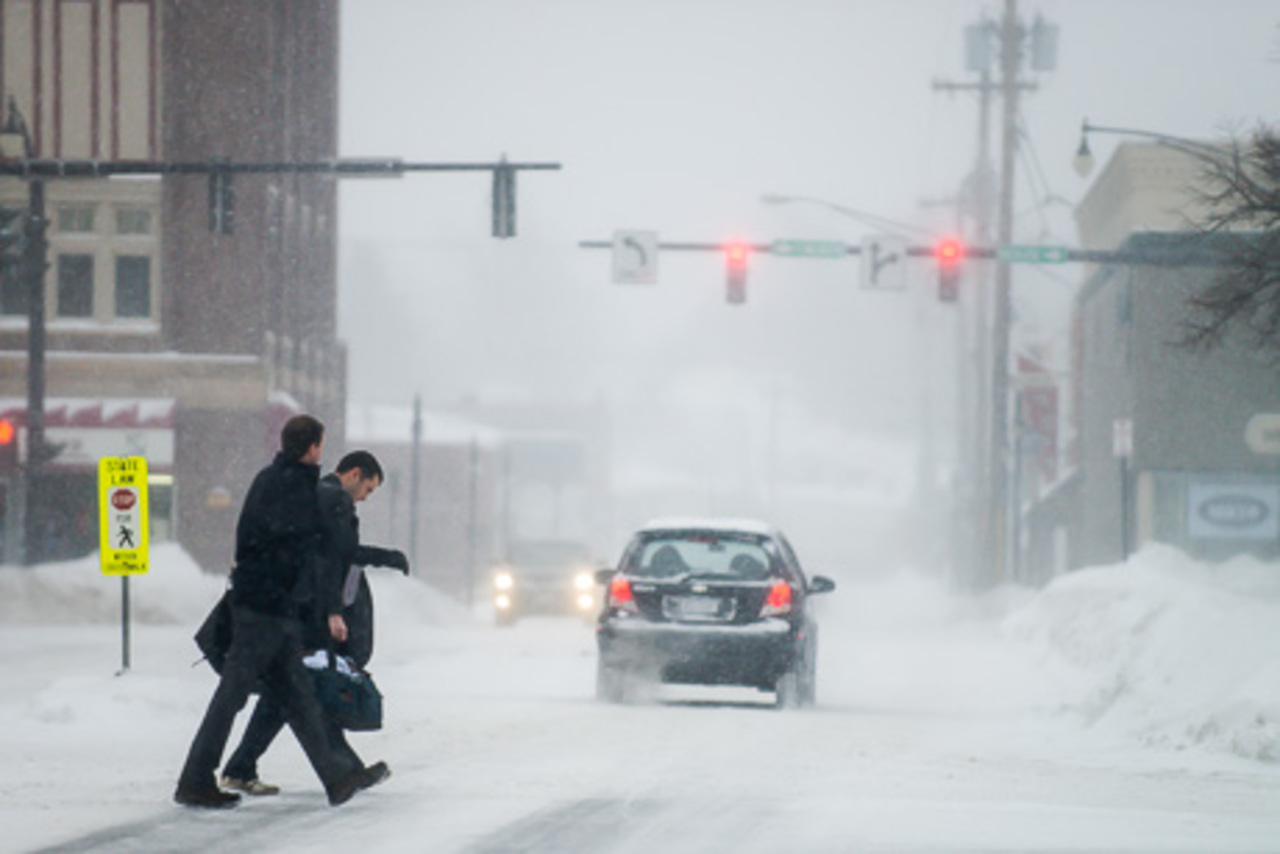car: (589, 522, 827, 709), (487, 542, 605, 626)
person: (193, 417, 376, 804), (231, 434, 411, 790)
